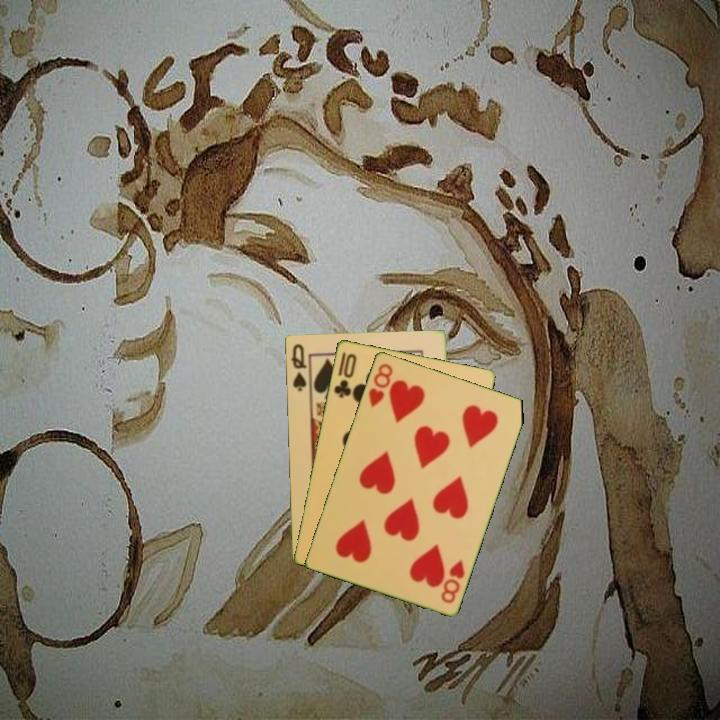10c: (330, 350, 359, 401)
8h: (365, 359, 395, 410), (437, 556, 467, 606)
Qs: (287, 340, 309, 394)
